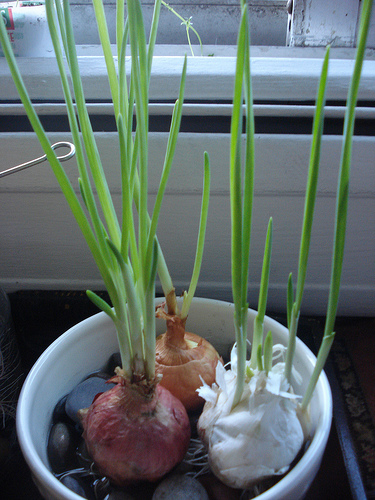onion: (196, 340, 303, 486), (82, 372, 190, 485), (153, 311, 222, 395)
